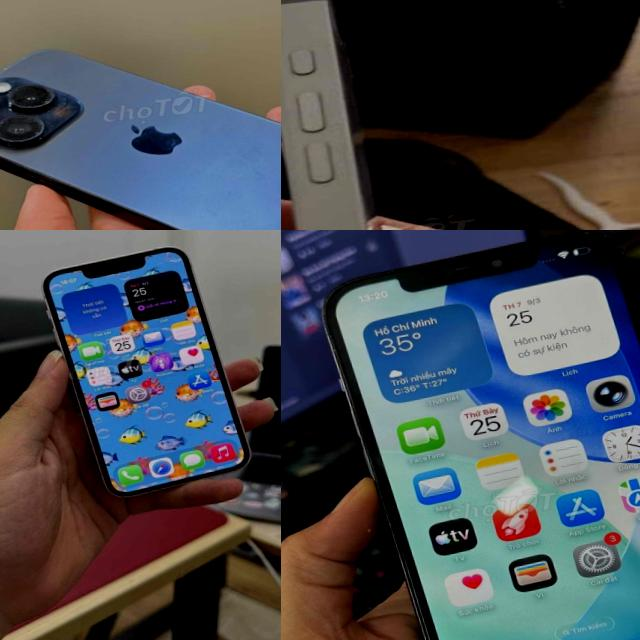gen_12_13: (301, 230, 640, 640), (35, 232, 254, 504)
gen_15: (0, 3, 281, 230)
gen_17: (281, 0, 520, 230)
scratch: (0, 71, 77, 150), (563, 230, 640, 307), (316, 294, 367, 375)
